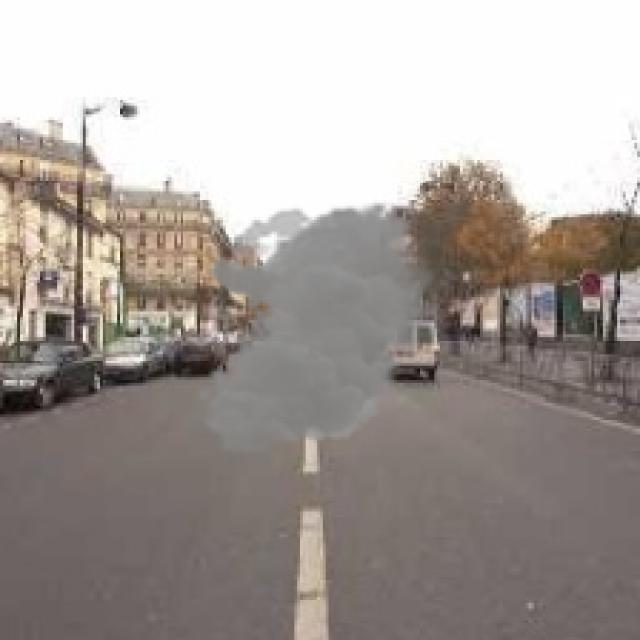Smoke: (194, 200, 449, 454)
